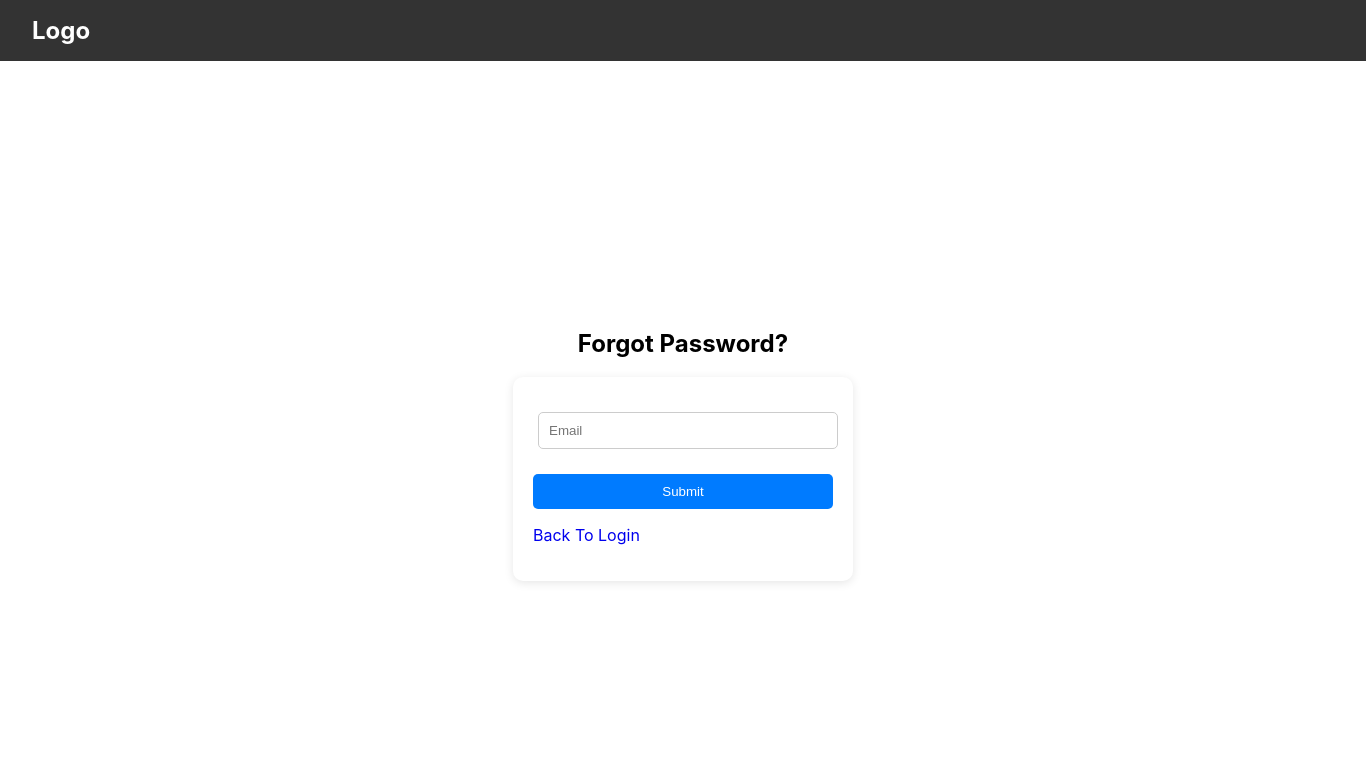
Scenario: Login › shows error messages on invalid submit
Click the button "Submit" at (683, 492), box [533,474,833,509]
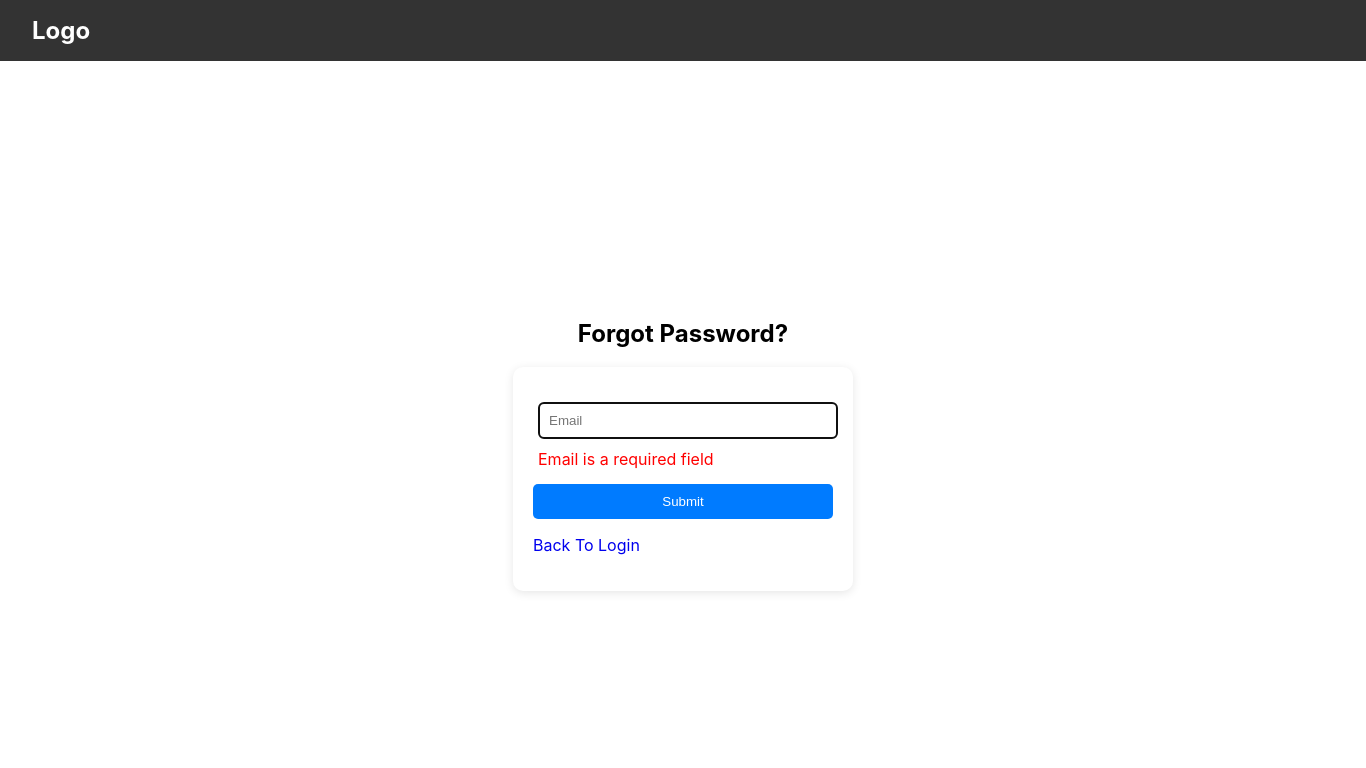
Now the text "Email is a required field" is shown, box [538,449,714,469]
